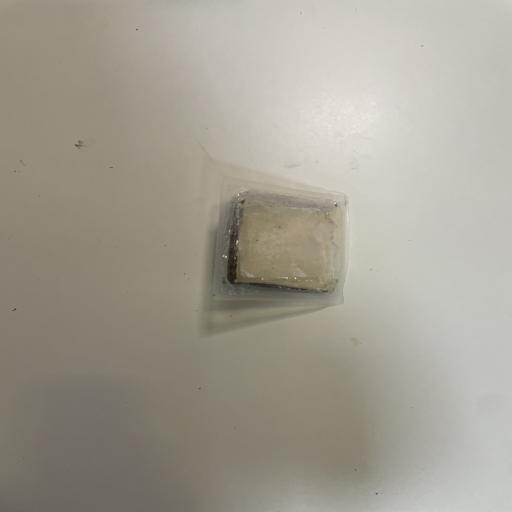cured_goat_cheese: (164, 134, 398, 346)
